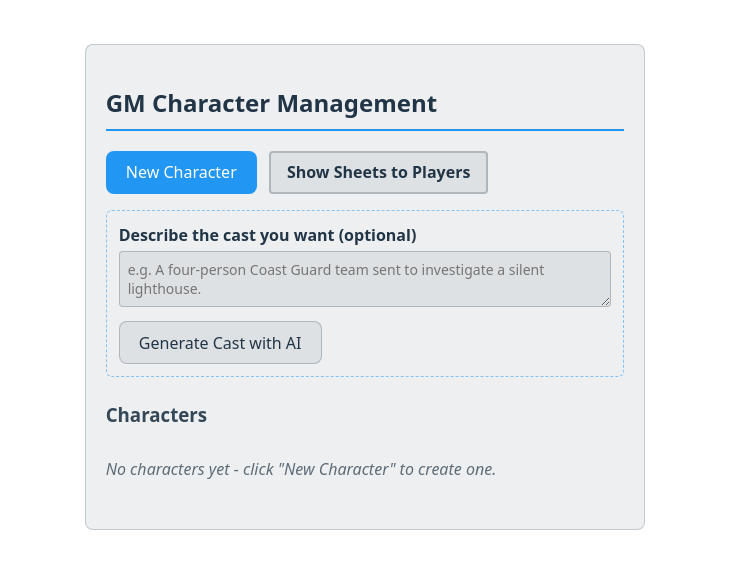
it: CastAiGenerator (via CharacterSheet) › shows an error and no drafts when the AI returns invalid JSON
Step 1. Click the button "Generate Cast with AI" → (220, 342), box [119, 321, 322, 364]
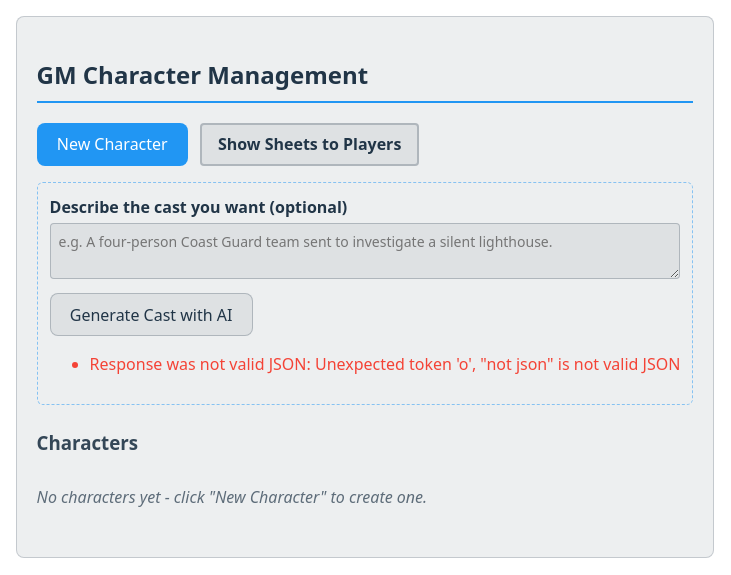
Expected: the list item "not valid JSON" is shown, [90, 353, 680, 375]
